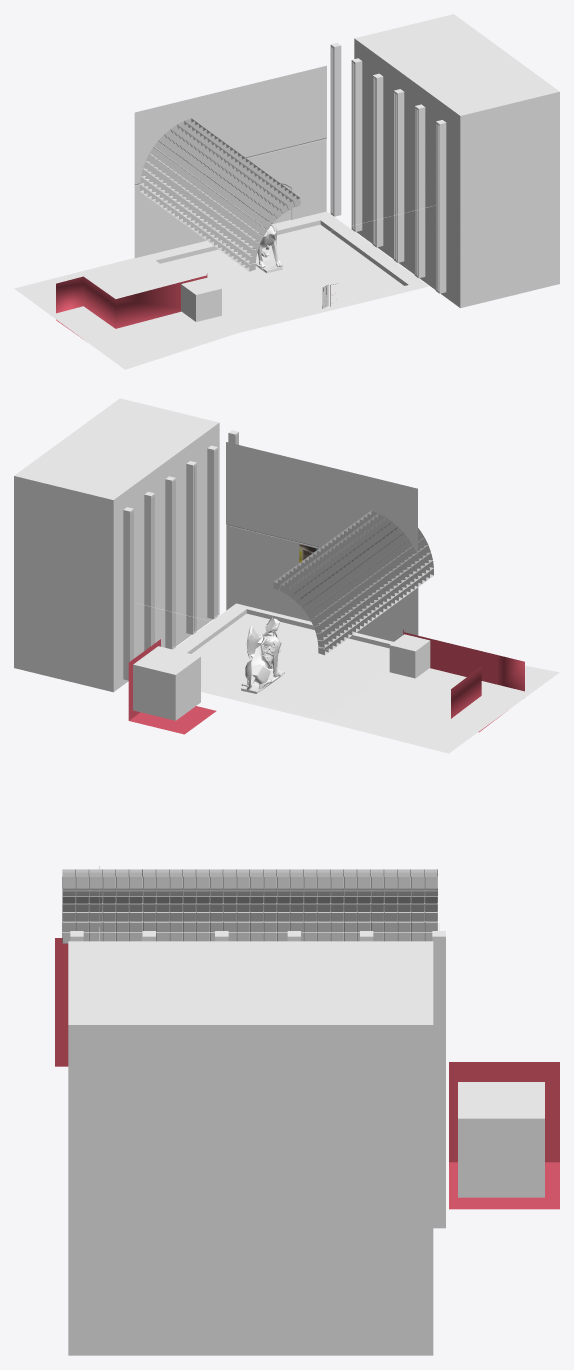
File: about3_014.glb
3 views of the same model, one above another, from view 1: azimuth 30°, elevation 25°; view 2: azimuth 150°, elevation 25°; view 3: azimuth 270°, elevation 25° (orthographic). The views are drawn at different scales.
Parts seen in each view (by area): view 1: LinkProjects, Plane.005, Plane.006, curved ceiling, Cube.002, Plane.011, LinkPeople, Sphinx; view 2: LinkProjects, Plane.005, Plane.010, curved ceiling, Cube.002, LinkBibliography, Plane.011, Sphinx, Cube.001, LinkPeople; view 3: LinkProjects, curved ceiling, LinkBibliography, Cube.001, Cube.002, Plane.011.
Part boxes in pixels (box(x1,y1,x2,y2)): LinkProjects: box(354, 14, 559, 308); Plane.005: box(14, 211, 428, 369); Plane.006: box(134, 65, 326, 257); curved ceiling: box(140, 118, 300, 271); Cube.002: box(330, 43, 446, 293); Plane.011: box(56, 273, 207, 339); LinkPeople: box(181, 278, 221, 321); Sphinx: box(255, 223, 282, 273); LinkProjects: box(14, 398, 219, 692); Plane.005: box(173, 603, 559, 753); Plane.010: box(226, 442, 418, 641); curved ceiling: box(273, 510, 433, 655); Cube.002: box(123, 430, 238, 680); LinkBibliography: box(133, 646, 200, 720); Plane.011: box(403, 629, 524, 732); Sphinx: box(241, 617, 284, 693); Cube.001: box(128, 639, 216, 734); LinkPeople: box(389, 634, 430, 678); LinkProjects: box(68, 941, 433, 1355); curved ceiling: box(62, 869, 437, 943); LinkBibliography: box(458, 1082, 544, 1197); Cube.001: box(449, 1062, 559, 1209); Cube.002: box(70, 931, 445, 1228); Plane.011: box(55, 938, 68, 1066).
Size of the model in its own units: 130 by 54.4 by 81.41.
Materials: 9 (1 with a texture image).
